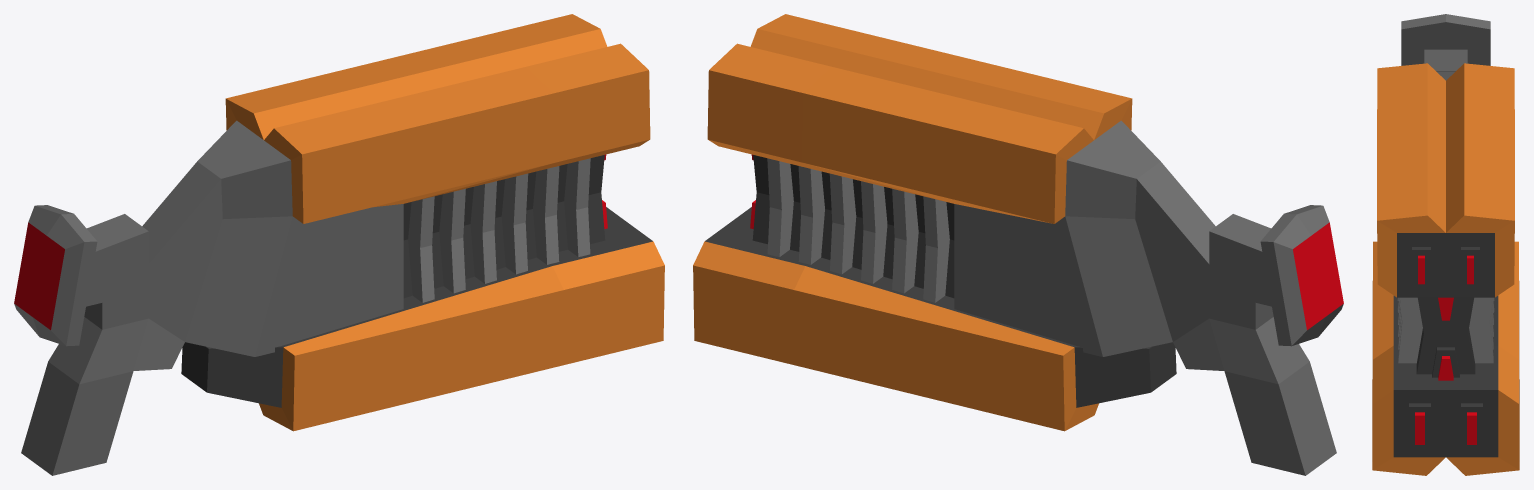
File: final_laser_0.fbx
3 views of the same model, side by side, from view 1: azimuth 30°, elevation 25°; view 2: azimuth 150°, elevation 25°; view 3: azimuth 270°, elevation 25° (orthographic). The views are drawn at different scales.
Parts seen in each view (by area): view 1: Cube; view 2: Cube; view 3: Cube.
Boxes of the visible parts, x1=… form: Cube: x1=14, y1=14, x2=664, y2=475; Cube: x1=693, y1=14, x2=1343, y2=475; Cube: x1=1372, y1=14, x2=1519, y2=475.
Bounding box in the file's own units: 2238 × 1017 × 523.
